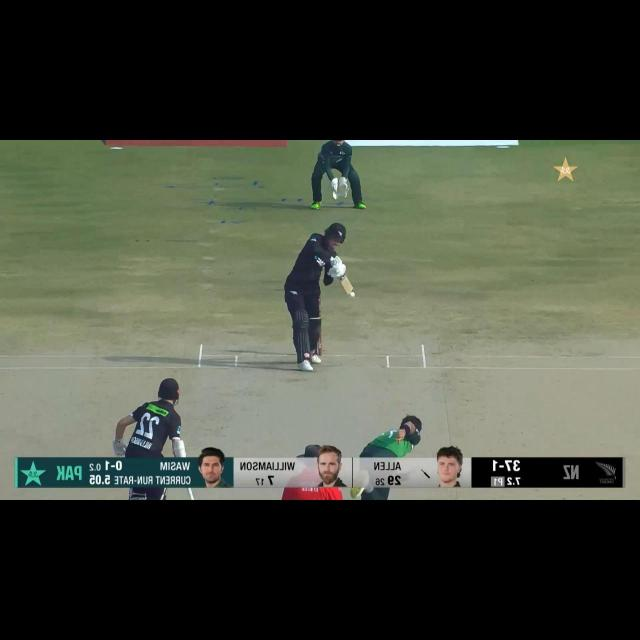bat: (338, 273, 354, 297), (187, 488, 196, 500)
toe: (346, 284, 354, 296)
